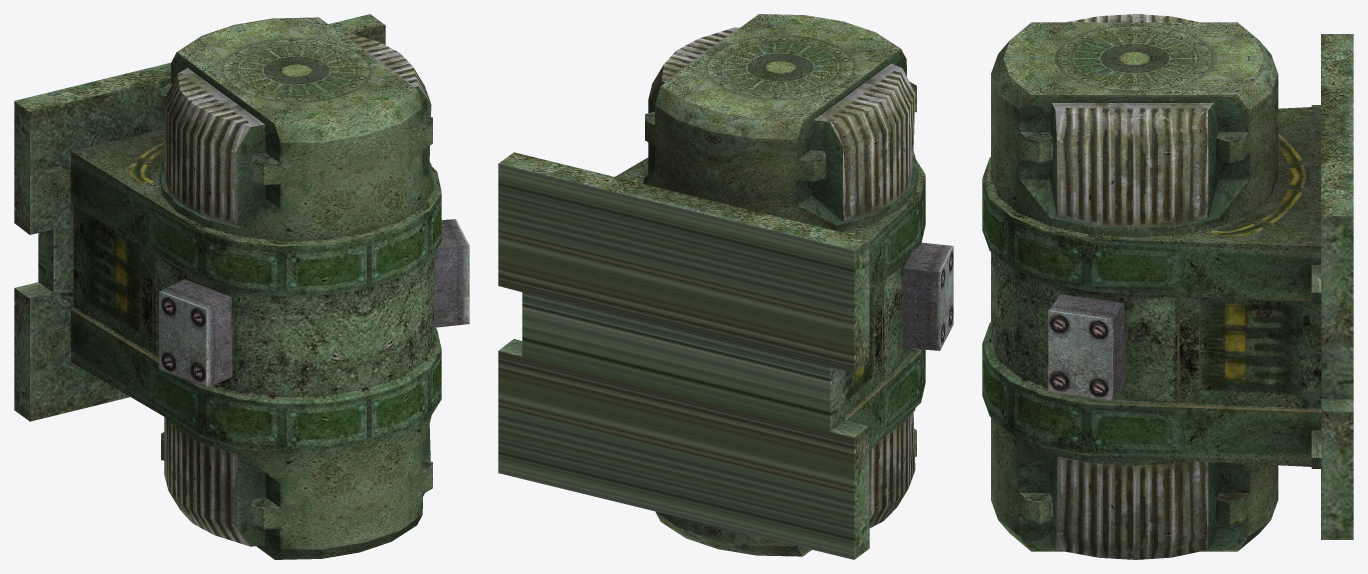
Rendered from generator_small_mod.obj.
The picture shows the model from 3 angles, left to right: view 1: azimuth 30°, elevation 25°; view 2: azimuth 150°, elevation 25°; view 3: azimuth 270°, elevation 25°; orthographic projection. The views are drawn at different scales.
Parts seen in each view (by area): view 1: poseray_group; view 2: poseray_group; view 3: poseray_group.
Boxes of the visible parts, box(x1,y1,x2,y2) form: poseray_group: box(14, 14, 469, 559); poseray_group: box(498, 14, 953, 559); poseray_group: box(982, 14, 1353, 559).
Size of the model in its own units: 57.65 by 67.48 by 49.7.
